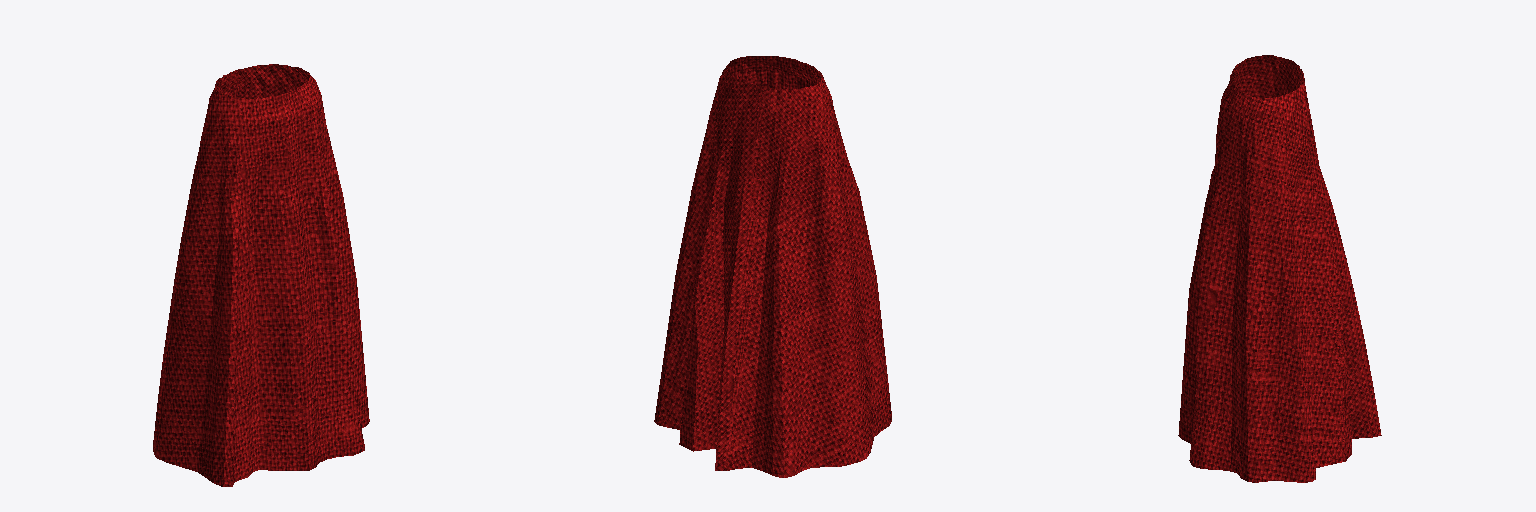
The picture shows the model from 3 angles: view 1: azimuth 30°, elevation 25°; view 2: azimuth 150°, elevation 25°; view 3: azimuth 270°, elevation 25°; orthographic projection.
Visible parts, largest first — view 1: lowertunic; view 2: lowertunic; view 3: lowertunic.
Part boxes in pixels (bbox=[...]): lowertunic: bbox=[153, 64, 369, 486]; lowertunic: bbox=[654, 56, 891, 477]; lowertunic: bbox=[1178, 55, 1381, 482].
Size of the model in its own units: 0.3681 by 0.6381 by 0.3278.
Materials: 1 (1 with a texture image).